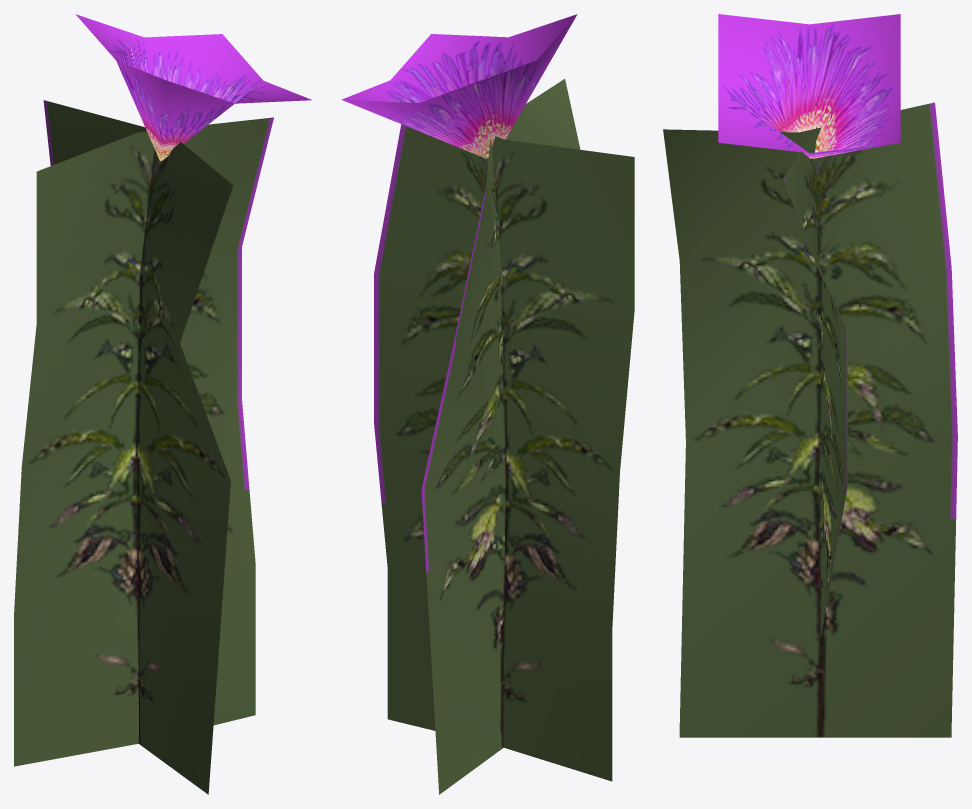
File: lilith_flower.fbx
3 renders of one model, left to right at view 1: azimuth 30°, elevation 25°; view 2: azimuth 150°, elevation 25°; view 3: azimuth 270°, elevation 25°, orthographic.
Visible parts, largest first — view 1: Lilith Flower; view 2: Lilith Flower; view 3: Lilith Flower.
Boxes of the visible parts, bbox=[...] form: Lilith Flower: bbox=[14, 14, 312, 794]; Lilith Flower: bbox=[341, 14, 634, 794]; Lilith Flower: bbox=[663, 14, 957, 737].
Bounding box in the file's own units: 0.4041 × 1.13 × 0.4258.
